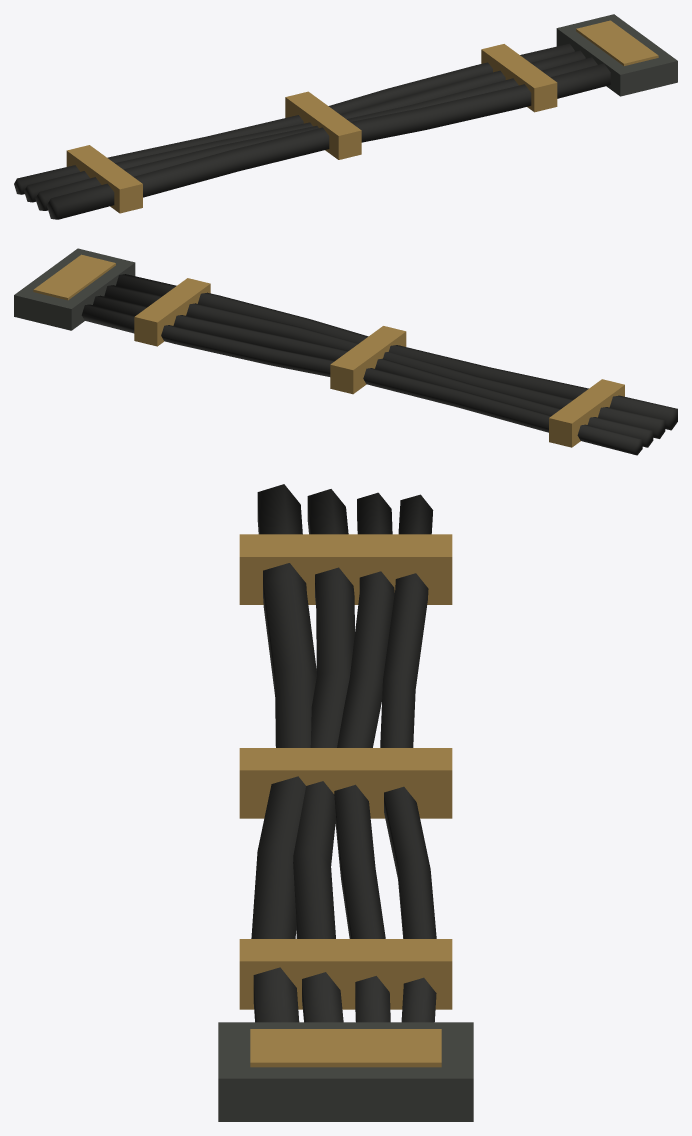
Rendered from cable_floor.glb.
3 renders of one model, top to bottom at view 1: azimuth 30°, elevation 25°; view 2: azimuth 150°, elevation 25°; view 3: azimuth 270°, elevation 25°, orthographic. The views are drawn at different scales.
Parts seen in each view (by area): view 1: cable_floor; view 2: cable_floor; view 3: cable_floor.
Boxes of the visible parts, box(x1,y1,x2,y2) form: cable_floor: box(14, 14, 677, 219); cable_floor: box(14, 248, 677, 455); cable_floor: box(218, 484, 473, 1121).
Size of the model in its own units: 2.65 by 0.1 by 0.48.
